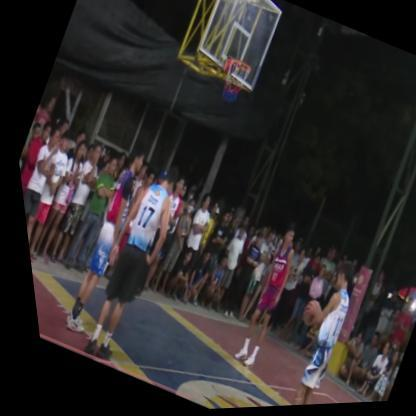basketball: (287, 298, 318, 333)
rim: (208, 54, 257, 114)
